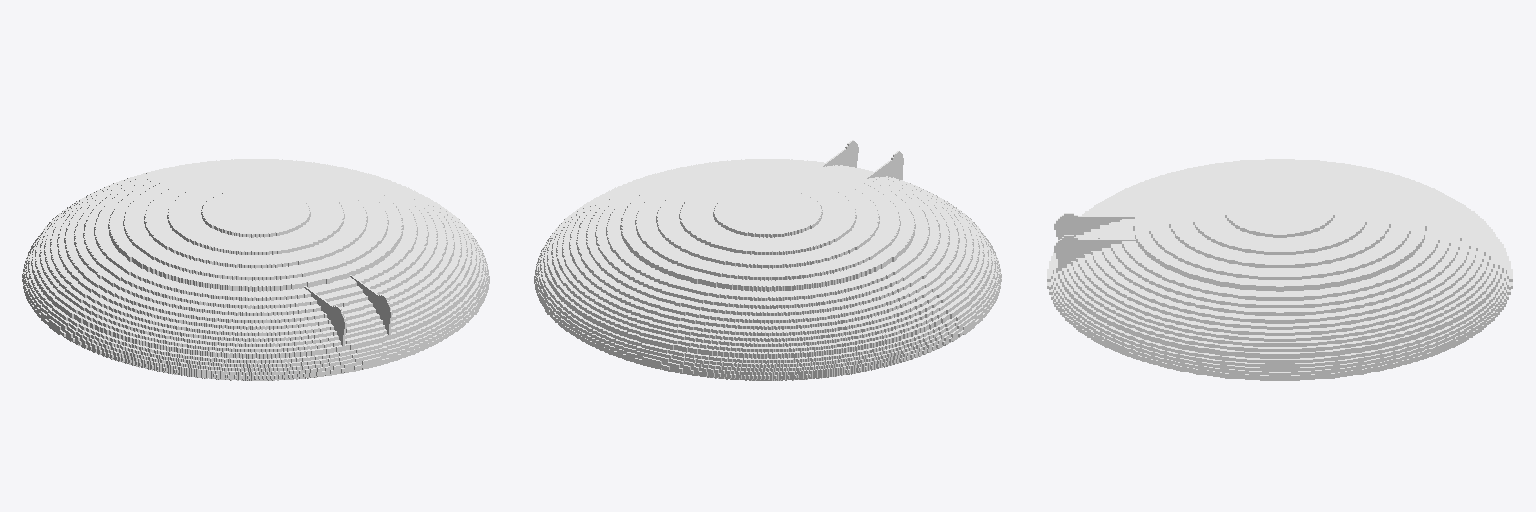
Rendered from Boss_UFO-3.obj.
3 views of the same model, side by side, from view 1: azimuth 30°, elevation 25°; view 2: azimuth 150°, elevation 25°; view 3: azimuth 270°, elevation 25° (orthographic).
Visible parts, largest first — view 1: object 1; view 2: object 1; view 3: object 1.
Boxes of the visible parts, x1,y1,x2,y2 form: object 1: [22, 159, 489, 380]; object 1: [534, 140, 1001, 380]; object 1: [1047, 159, 1512, 380].
Bounding box in the file's own units: 25.6 × 5.4 × 25.6.